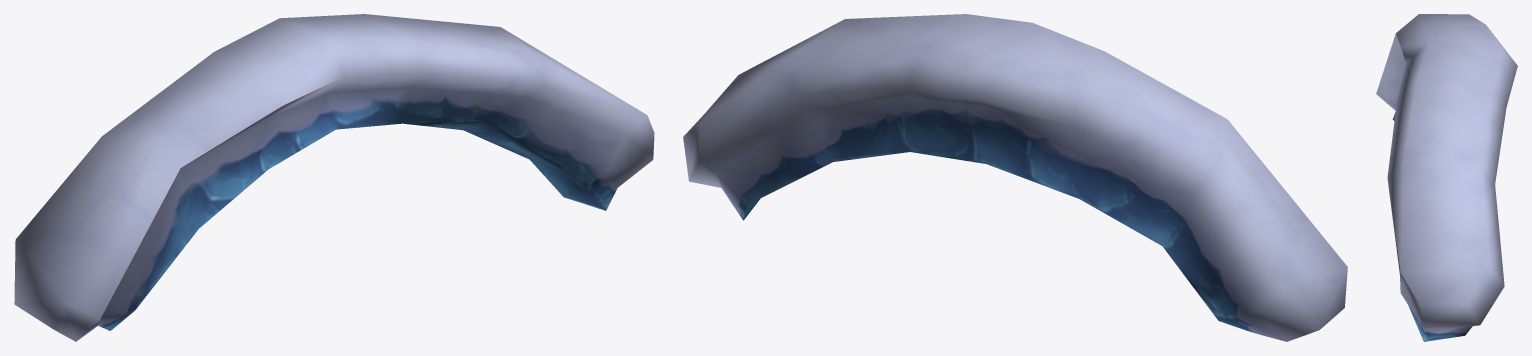
Rendered from upper_ice_01.fbx.
3 views of the same model, side by side, from view 1: azimuth 30°, elevation 25°; view 2: azimuth 150°, elevation 25°; view 3: azimuth 270°, elevation 25° (orthographic). The views are drawn at different scales.
Parts seen in each view (by area): view 1: upper_ice_01; view 2: upper_ice_01; view 3: upper_ice_01.
Boxes of the visible parts, bbox=[...] form: upper_ice_01: bbox=[14, 14, 654, 341]; upper_ice_01: bbox=[683, 14, 1347, 341]; upper_ice_01: bbox=[1376, 14, 1517, 341].
Bounding box in the file's own units: 4.01 × 1.47 × 0.9845.
